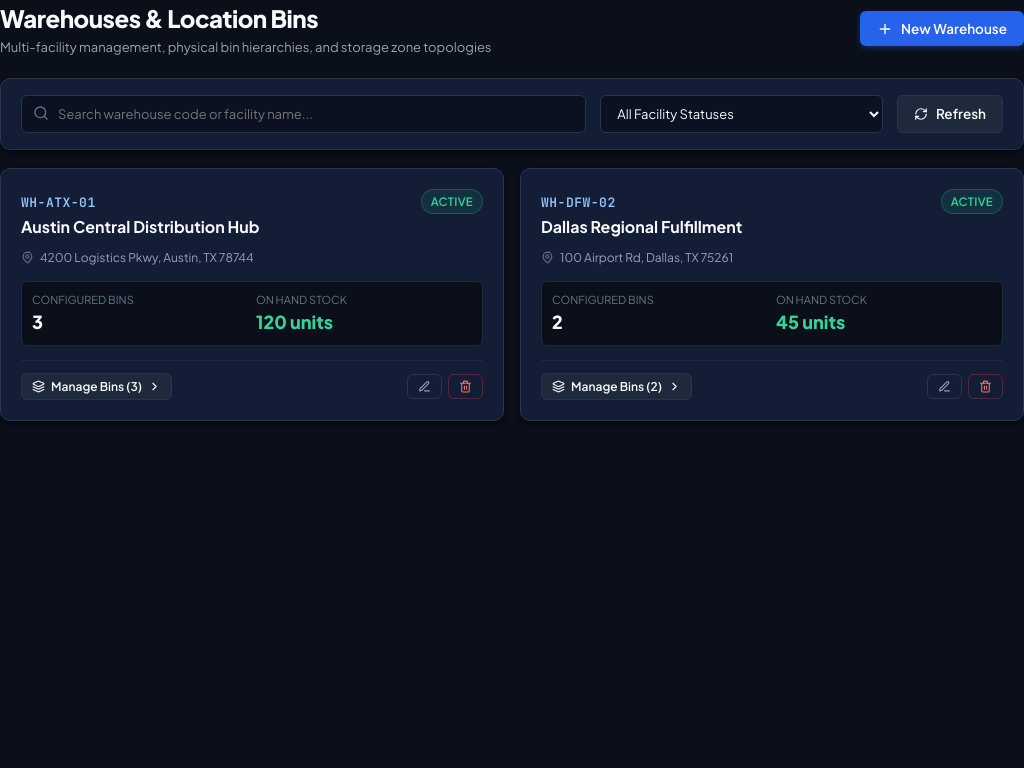
WarehousesPage Component › opens the location bins drawer for a warehouse
Expected: the text "WH-ATX-01" is shown, [21,194,96,210]
Step 1. Click the button "Manage Bins (3)" → [96, 386], box [21,373,172,400]
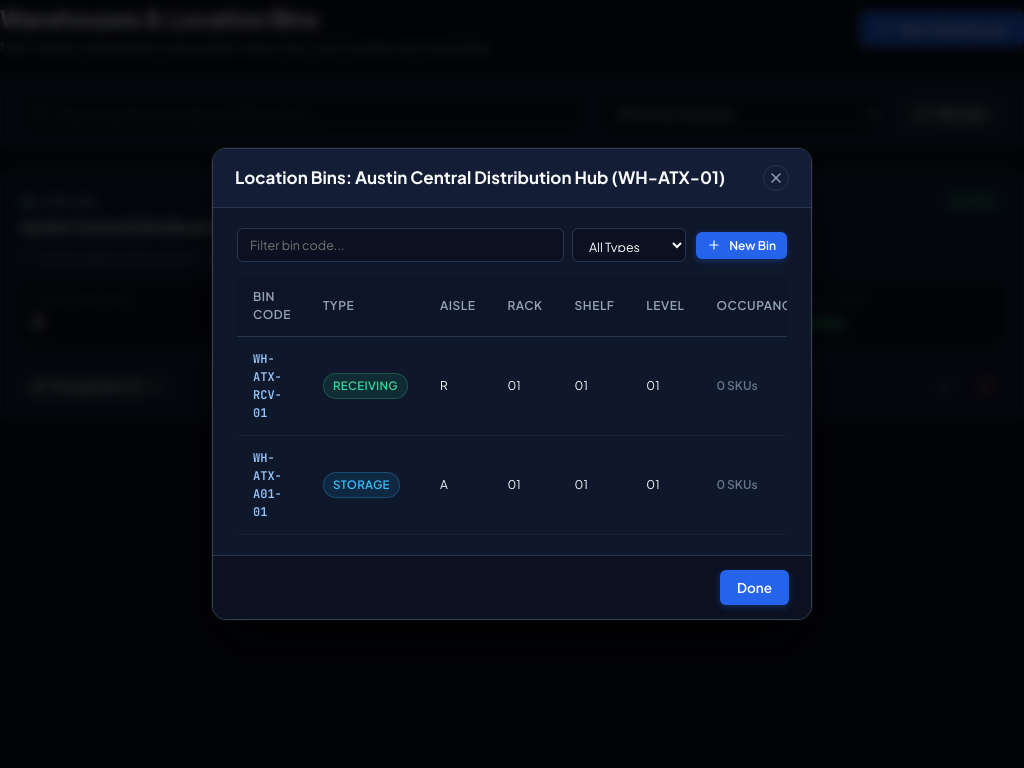
Now the heading "Location Bins: Austin Central Distribution Hub (WH-ATX-01)" is shown, box [235,165,725,191]
Now the text "WH-ATX-RCV-01" is shown, box [237,336,307,436]
